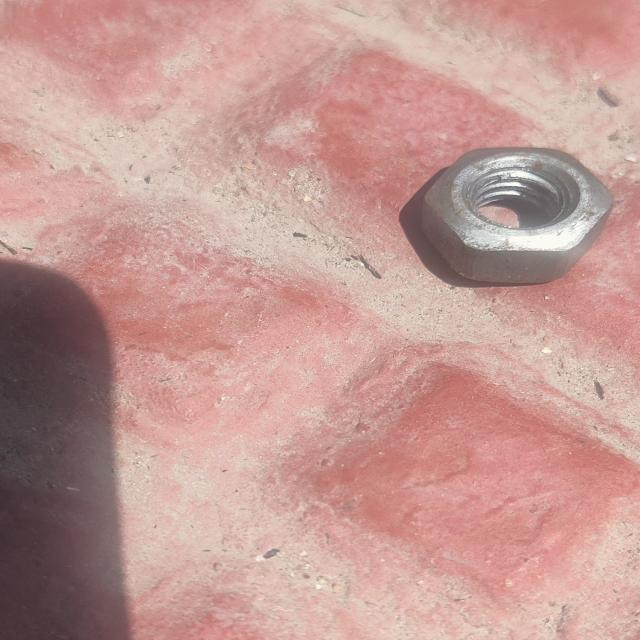disinfected nut: (420, 148, 613, 282)
